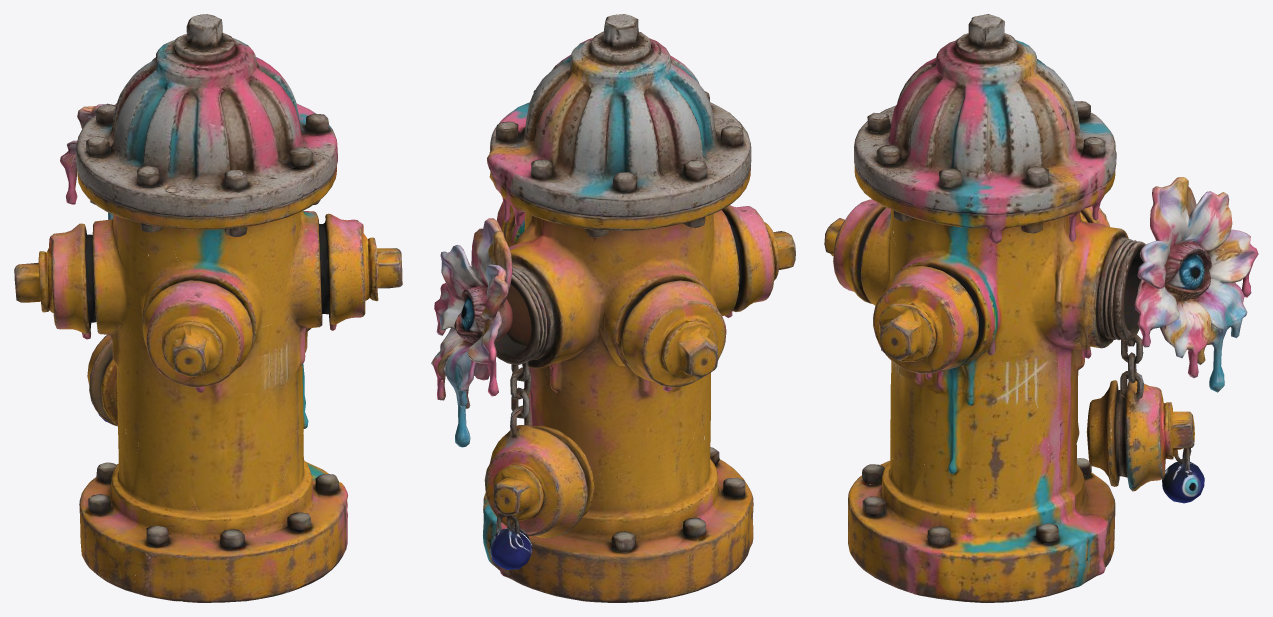
The model's file is hydrant.glb.
The picture shows the model from 3 angles, left to right: view 1: azimuth 30°, elevation 25°; view 2: azimuth 150°, elevation 25°; view 3: azimuth 270°, elevation 25°; orthographic projection.
Visible parts, largest first — view 1: tripo_node_6b7f50a7-454a-4365-827a-3f587c2d8020; view 2: tripo_node_6b7f50a7-454a-4365-827a-3f587c2d8020; view 3: tripo_node_6b7f50a7-454a-4365-827a-3f587c2d8020.
Part boxes in pixels (left/top/right/bottom): tripo_node_6b7f50a7-454a-4365-827a-3f587c2d8020: left=14, top=14, right=402, bottom=602; tripo_node_6b7f50a7-454a-4365-827a-3f587c2d8020: left=431, top=14, right=795, bottom=602; tripo_node_6b7f50a7-454a-4365-827a-3f587c2d8020: left=824, top=14, right=1258, bottom=602.
Size of the model in its own units: 0.5918 by 1 by 0.7443.
1 material, 1 textured.
